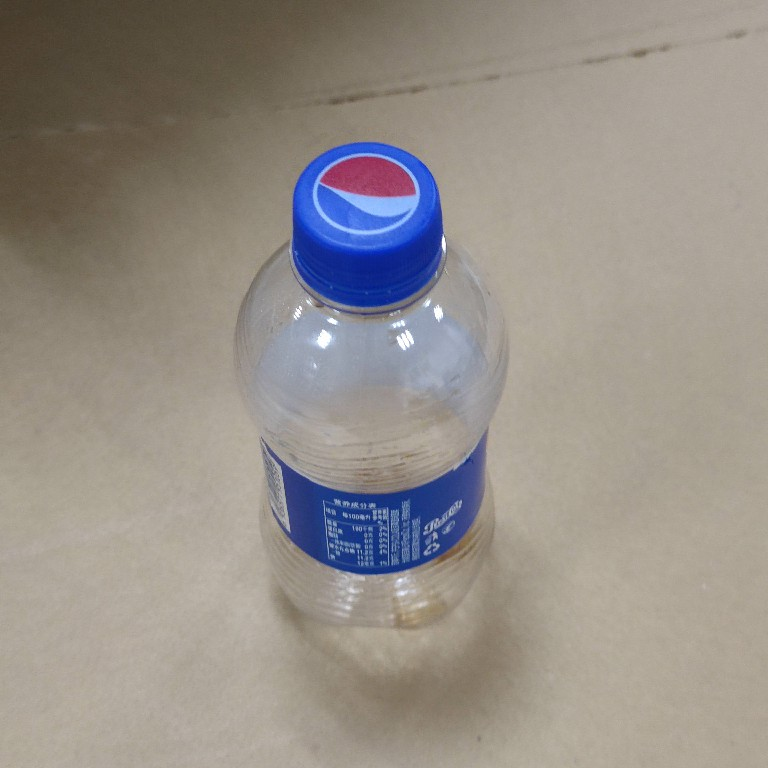bottle: (226, 131, 516, 643)
